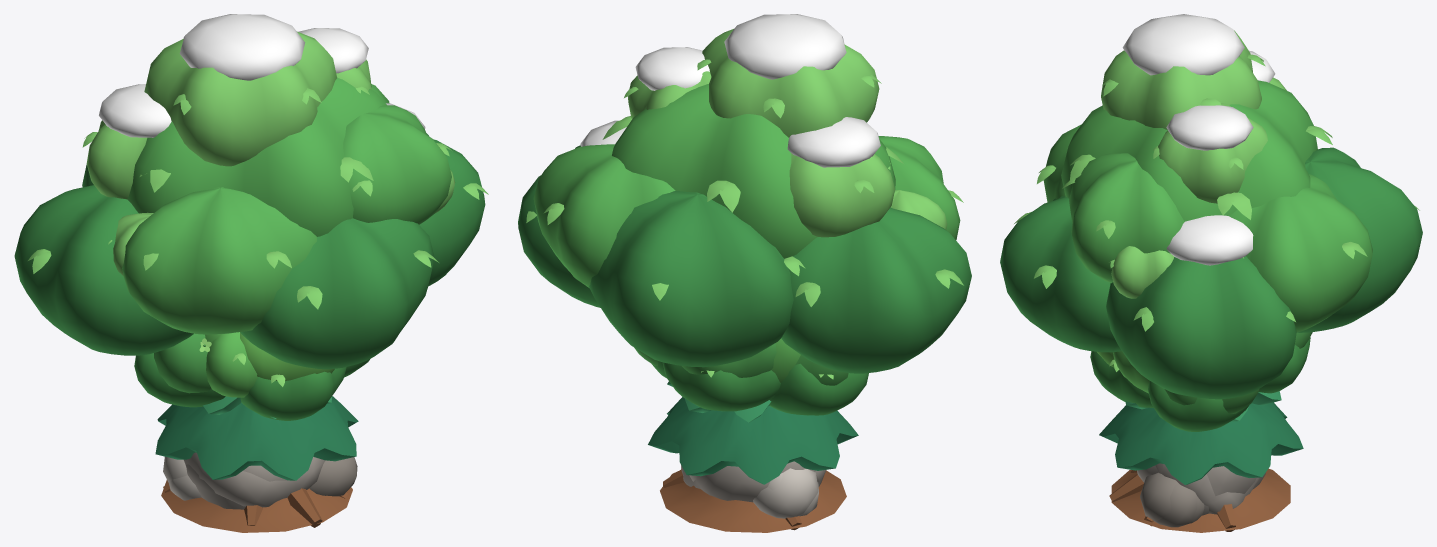
The model's file is nature.glb.
The picture shows the model from 3 angles, left to right: view 1: azimuth 30°, elevation 25°; view 2: azimuth 150°, elevation 25°; view 3: azimuth 270°, elevation 25°; orthographic projection. The views are drawn at different scales.
Parts seen in each view (by area): view 1: bigtree__canopy, tree_pine__canopy, bigtree__snow, tree_fruit__canopy, bigtree__main, tree_blossom__canopy, boulder2, boulder1; view 2: bigtree__canopy, bigtree__snow, tree_pine__canopy, tree_fruit__canopy, bigtree__main, boulder2, tree_blossom__canopy, boulder1; view 3: bigtree__canopy, bigtree__snow, tree_pine__canopy, tree_fruit__canopy, bigtree__main, boulder1, boulder2, tree_blossom__canopy.
Boxes of the visible parts, x1=… form: bigtree__canopy: x1=14, y1=31, x2=488, y2=369; tree_pine__canopy: x1=155, y1=396, x2=358, y2=480; bigtree__snow: x1=99, y1=14, x2=425, y2=137; tree_fruit__canopy: x1=134, y1=332, x2=369, y2=420; bigtree__main: x1=161, y1=480, x2=352, y2=532; tree_blossom__canopy: x1=154, y1=332, x2=334, y2=393; boulder2: x1=163, y1=452, x2=325, y2=507; boulder1: x1=169, y1=457, x2=357, y2=509; bigtree__canopy: x1=518, y1=29, x2=971, y2=373; bigtree__snow: x1=580, y1=14, x2=880, y2=167; tree_pine__canopy: x1=648, y1=381, x2=858, y2=484; tree_fruit__canopy: x1=652, y1=338, x2=868, y2=415; bigtree__main: x1=660, y1=469, x2=846, y2=532; boulder2: x1=681, y1=461, x2=818, y2=518; tree_blossom__canopy: x1=634, y1=343, x2=848, y2=385; boulder1: x1=689, y1=466, x2=826, y2=516; bigtree__canopy: x1=1000, y1=30, x2=1422, y2=399; bigtree__snow: x1=1122, y1=14, x2=1275, y2=265; tree_pine__canopy: x1=1099, y1=391, x2=1303, y2=484; tree_fruit__canopy: x1=1090, y1=337, x2=1310, y2=431; bigtree__main: x1=1109, y1=468, x2=1290, y2=532; boulder1: x1=1140, y1=463, x2=1265, y2=523; boulder2: x1=1137, y1=464, x2=1260, y2=527; tree_blossom__canopy: x1=1097, y1=332, x2=1312, y2=413.
Size of the model in its own units: 5.44 by 6 by 4.84.
